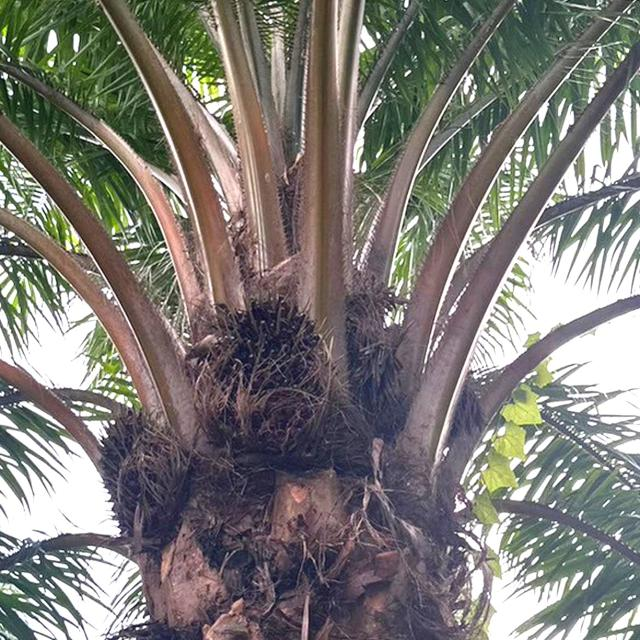ripe: (197, 292, 326, 448)
